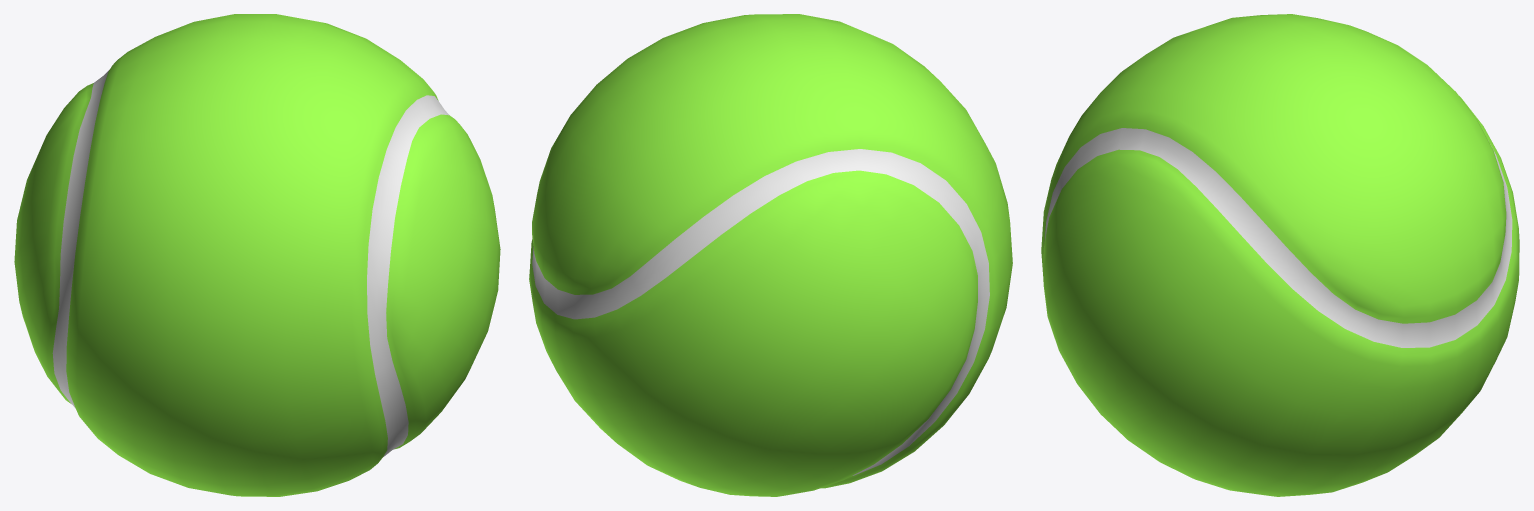
The model's file is DM_tennis_ball.fbx.
3 renders of one model, left to right at view 1: azimuth 30°, elevation 25°; view 2: azimuth 150°, elevation 25°; view 3: azimuth 270°, elevation 25°, orthographic.
Parts seen in each view (by area): view 1: DM_tennis_ball; view 2: DM_tennis_ball; view 3: DM_tennis_ball.
Boxes of the visible parts, left/top/right/bottom form: DM_tennis_ball: left=14, top=14, right=500, bottom=496; DM_tennis_ball: left=529, top=14, right=1012, bottom=496; DM_tennis_ball: left=1041, top=14, right=1519, bottom=496.
Bounding box in the file's own units: 0.0673 × 0.0674 × 0.0671.
